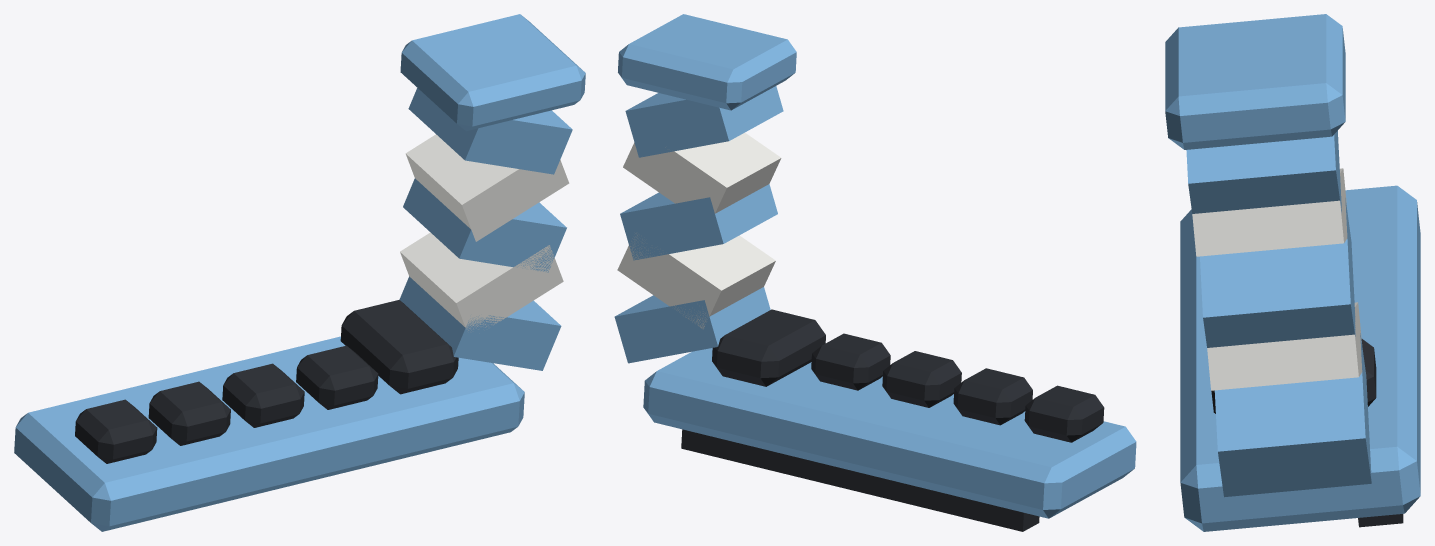
File: quickreply_m1_2.glb
3 renders of one model, left to right at view 1: azimuth 30°, elevation 25°; view 2: azimuth 150°, elevation 25°; view 3: azimuth 270°, elevation 25°, orthographic. The views are drawn at different scales.
Parts seen in each view (by area): view 1: quickreply_m1_2_mesh; view 2: quickreply_m1_2_mesh; view 3: quickreply_m1_2_mesh.
Part boxes in pixels (x1,y1,x2,y2): quickreply_m1_2_mesh: [14, 14, 585, 531]; quickreply_m1_2_mesh: [614, 14, 1136, 531]; quickreply_m1_2_mesh: [1165, 14, 1420, 531].
Size of the model in its own units: 0.495 by 0.3696 by 0.172.
